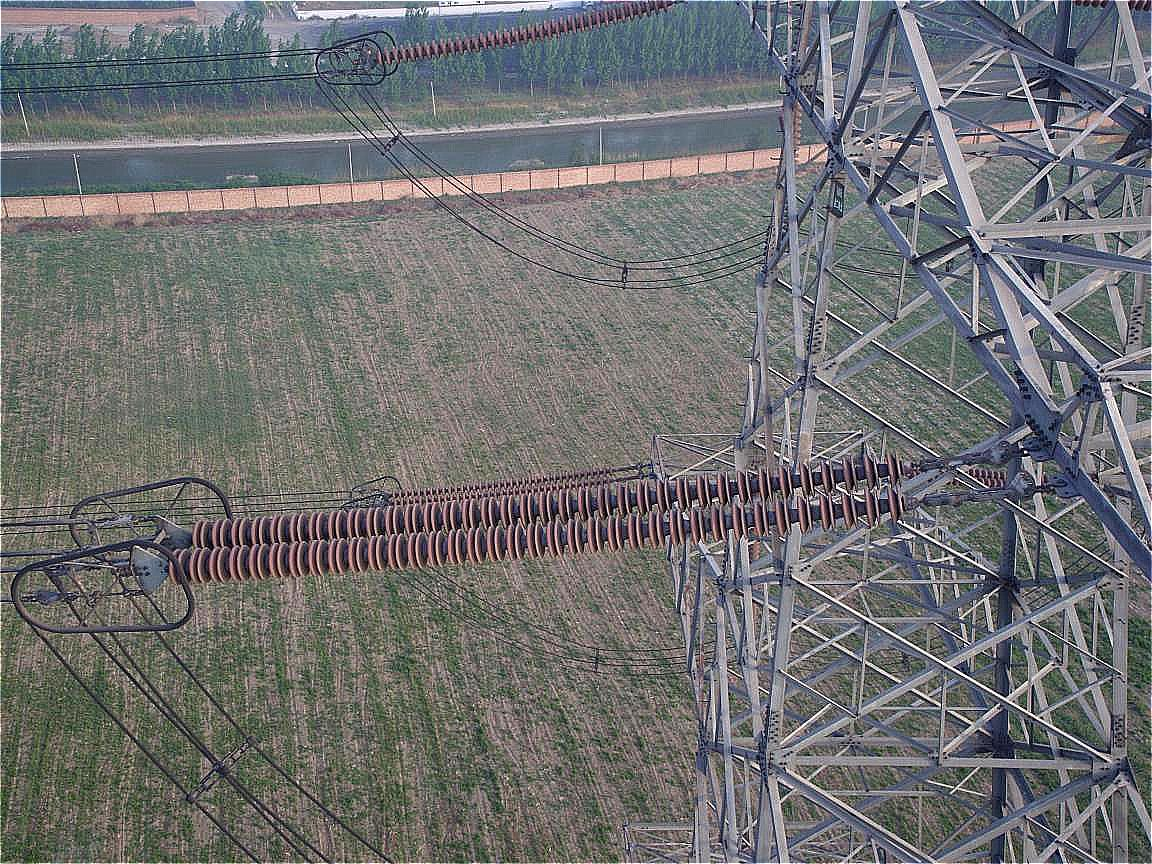insultor1: (363, 1, 690, 71), (384, 456, 624, 509)
insultor2: (125, 439, 924, 595)
